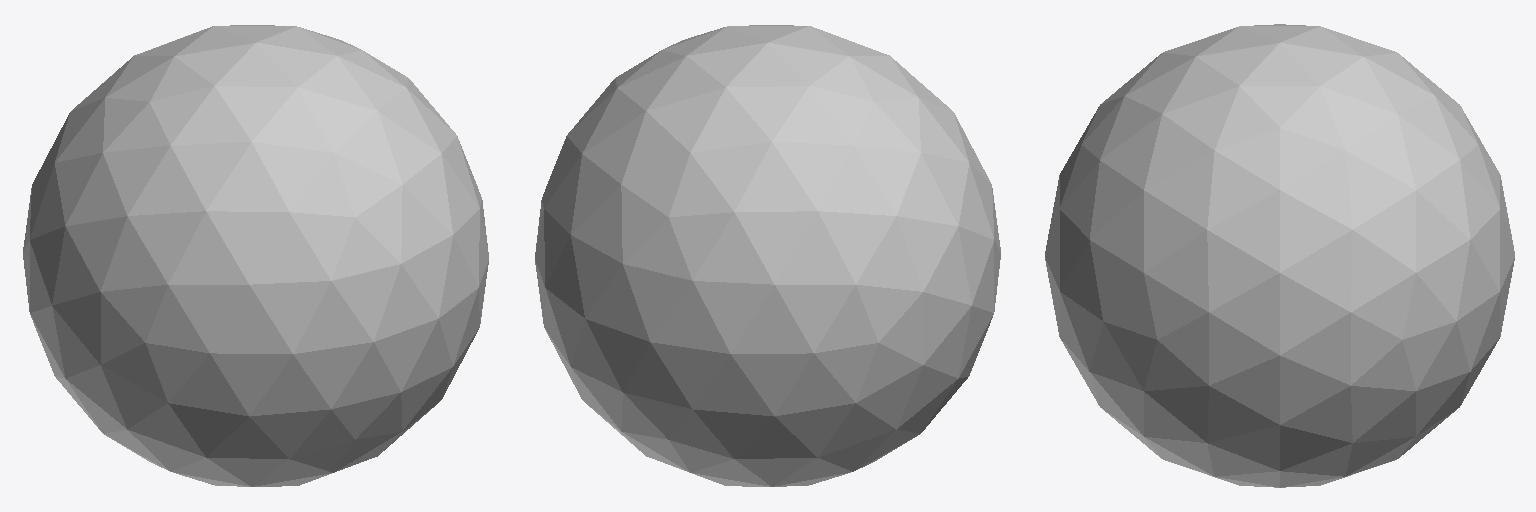
File: GeodesicIcosahedron.obj
3 views of the same model, side by side, from view 1: azimuth 30°, elevation 25°; view 2: azimuth 150°, elevation 25°; view 3: azimuth 270°, elevation 25° (orthographic).
Parts seen in each view (by area): view 1: Imported_Imported.012; view 2: Imported_Imported.012; view 3: Imported_Imported.012.
Part boxes in pixels (x1,y1,x2,y2): Imported_Imported.012: (23, 25, 488, 486); Imported_Imported.012: (535, 25, 1000, 486); Imported_Imported.012: (1045, 24, 1514, 487).
Bounding box in the file's own units: 2.03 × 2.03 × 2.03.